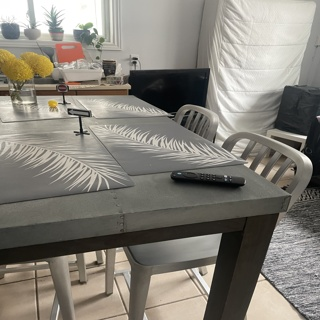sign_noentry: (56, 83, 67, 90)
sign_oneway_left: (66, 106, 90, 115)
